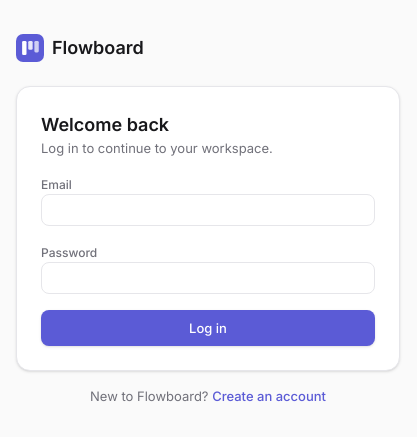
Test: AuthPage › shows the server message for bad credentials and keeps the user on the page
The width and height of the screenshot is (417, 437).
Type "ava@test.dev" into the field labelled "Email" at (208, 210), box [41,194,375,226]
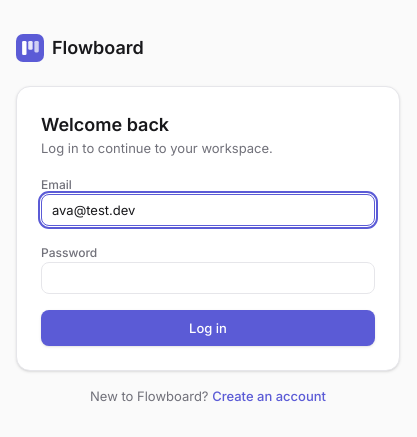
Type "nope" into the password field labelled "Password" at (208, 278), box [41,262,375,294]
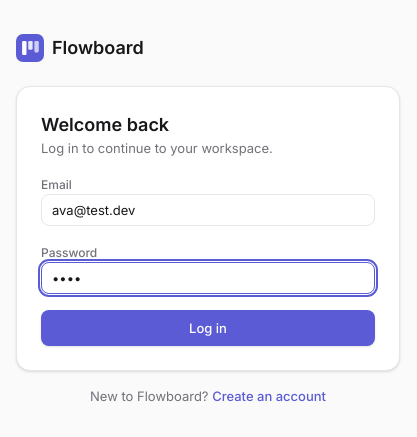
Click the button "Log in" at (208, 328), box [41,310,375,346]
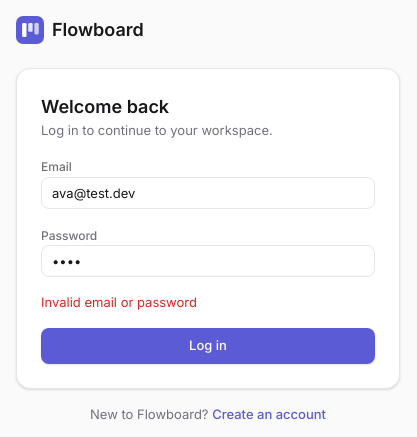
Check: the message reads "Invalid email or password", box [41,294,197,310]
